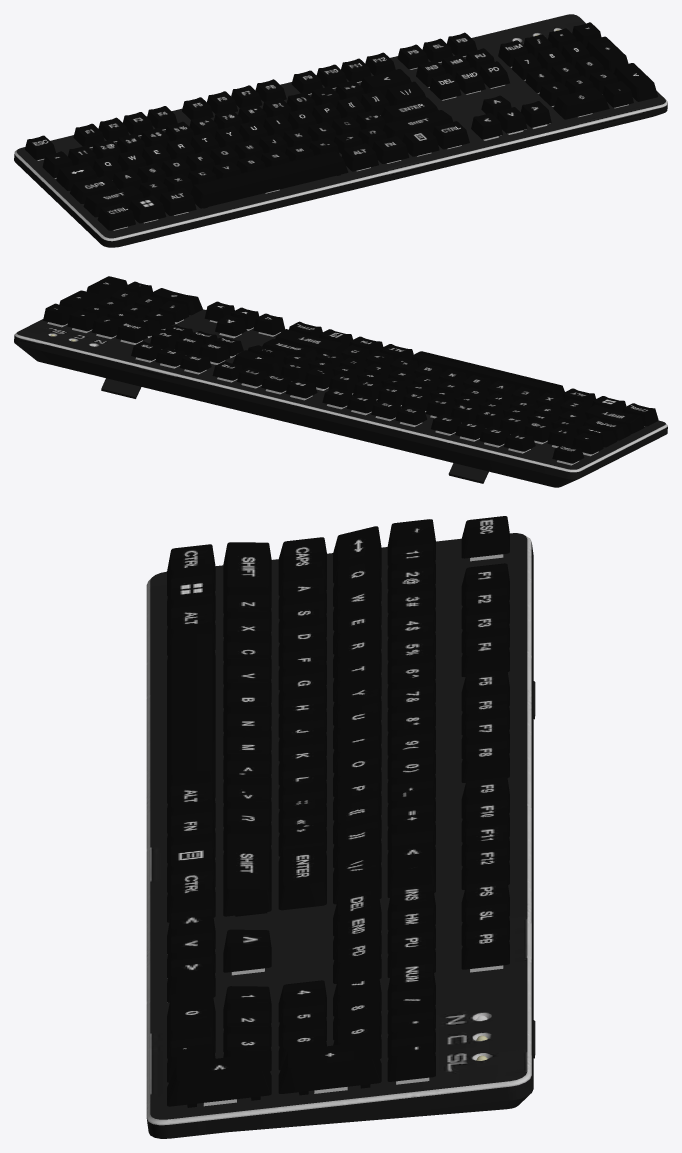
Rendered from northpaw-ledger-full.glb.
3 views of the same model, one above another, from view 1: azimuth 30°, elevation 25°; view 2: azimuth 150°, elevation 25°; view 3: azimuth 270°, elevation 25° (orthographic). The views are drawn at different scales.
Visible parts, largest first — view 1: keyboard_Key_0, keyboard_Keyboard_0; view 2: keyboard_Key_0, keyboard_Keyboard_0; view 3: keyboard_Key_0, keyboard_Keyboard_0.
Part boxes in pixels (x1,y1,x2,y2): keyboard_Key_0: (25, 22, 657, 230); keyboard_Keyboard_0: (14, 14, 667, 247); keyboard_Key_0: (43, 276, 658, 463); keyboard_Keyboard_0: (14, 309, 667, 487); keyboard_Key_0: (167, 516, 509, 1107); keyboard_Keyboard_0: (146, 533, 535, 1138).
Bounding box in the file's own units: 40.6 × 3.12 × 12.09.
2 materials, 2 textured.
